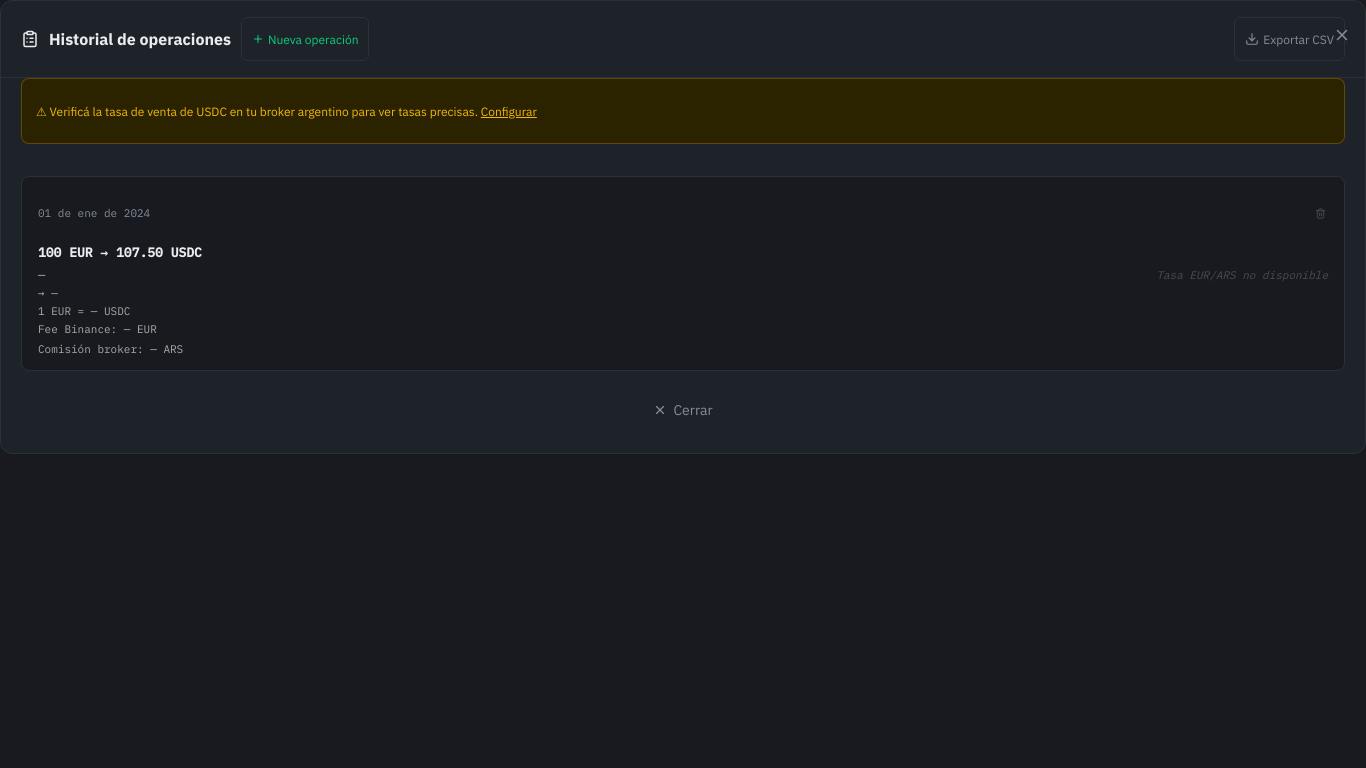
Delete entry with confirmation dialog › "Cancelar" cierra el diálogo sin eliminar la entrada
Step 1. Click the button named "Eliminar operación" → (1320, 213), box [1313, 191, 1328, 235]
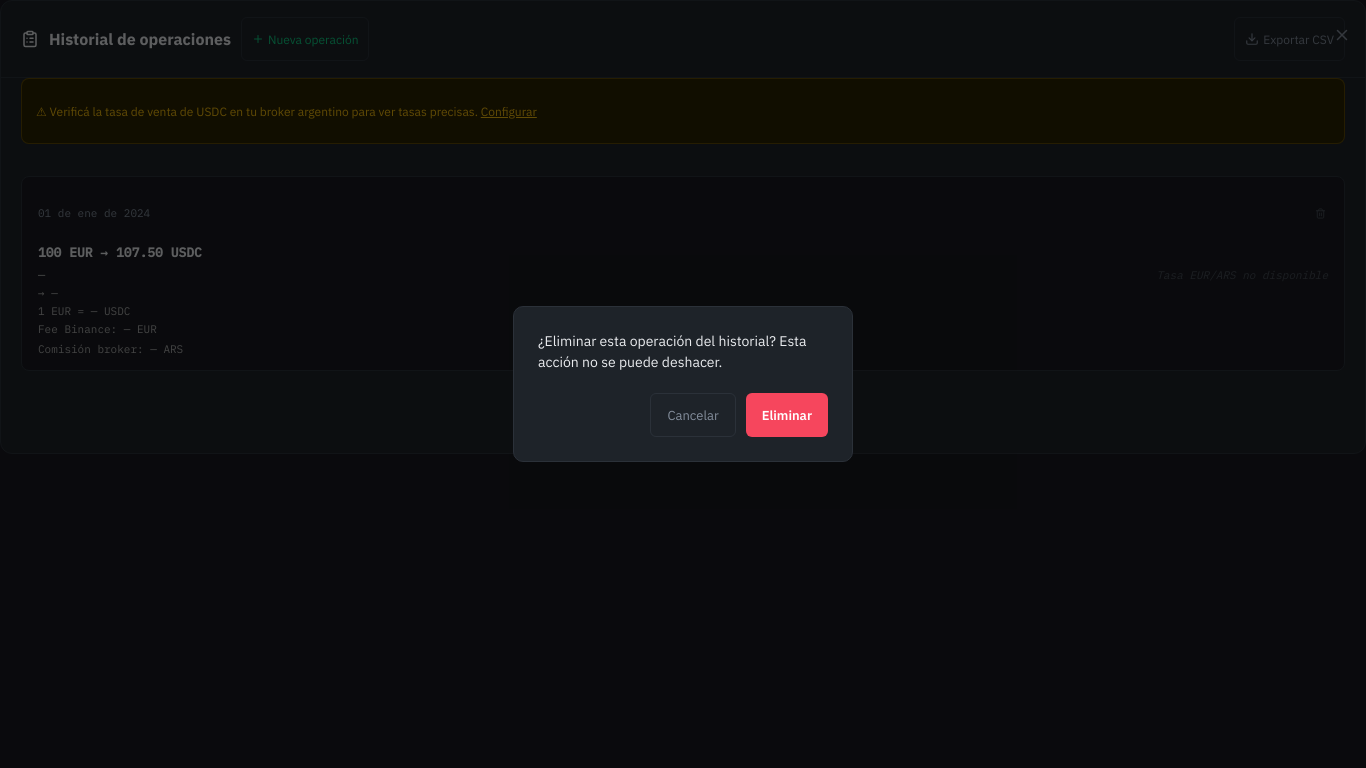
Step 2. Click the button "Cancelar" → (693, 415), box [650, 393, 736, 437]
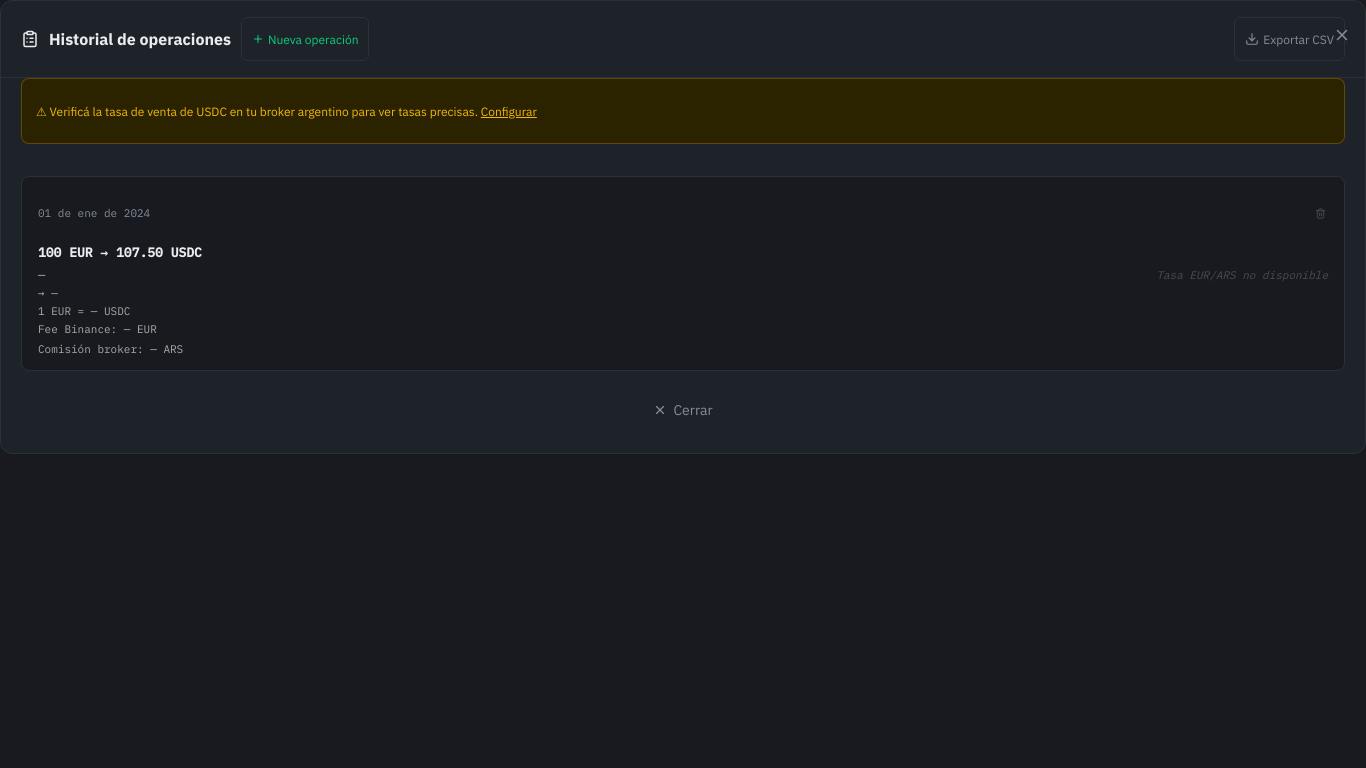
Expected: the text "100 EUR → 107.50 USDC" is shown, [38, 244, 202, 261]
Expected: the text "Eliminar esta operación del historial" is gone
